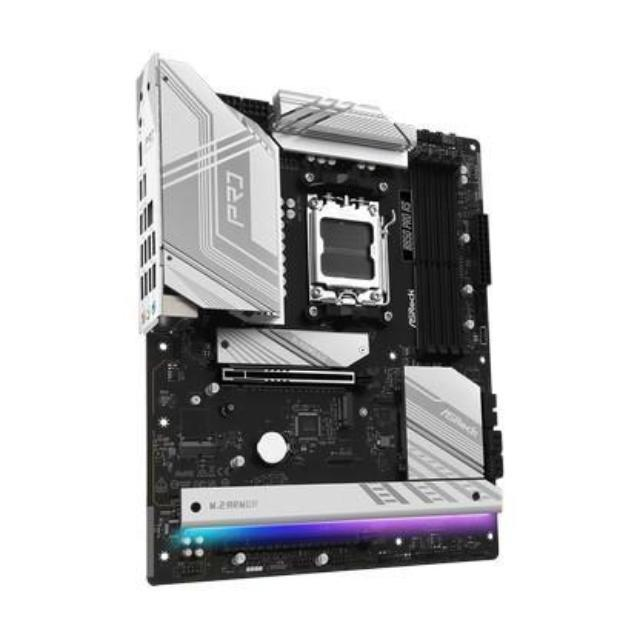Mainboard: (120, 51, 506, 600)
